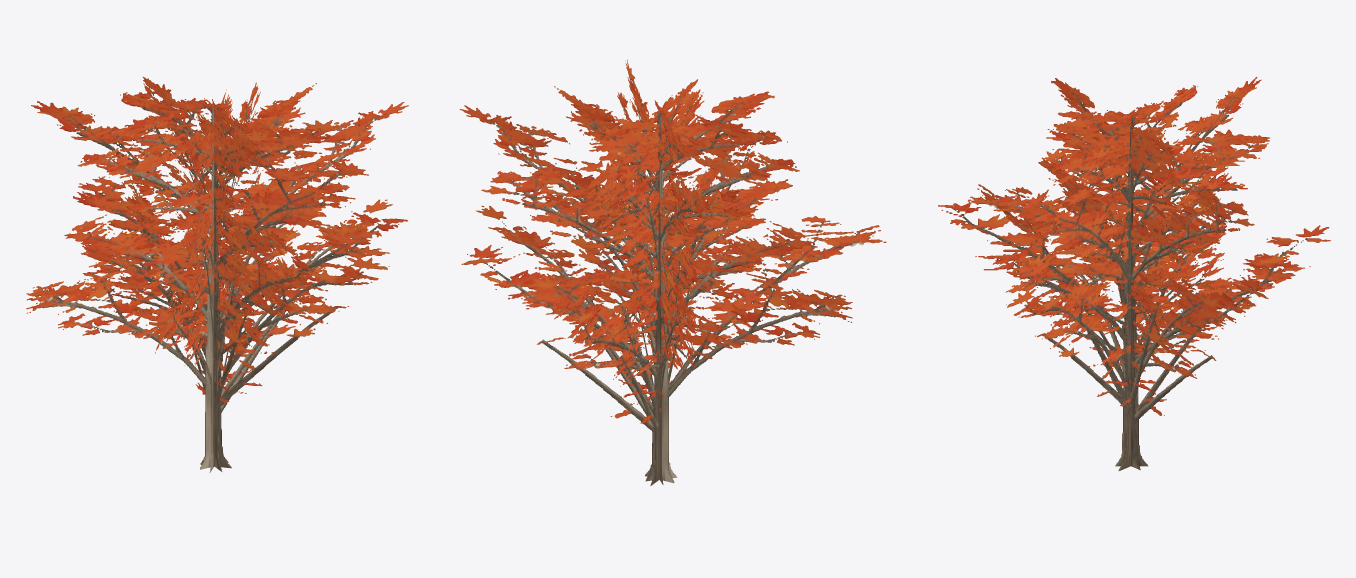
File: asset.glb
3 renders of one model, left to right at view 1: azimuth 30°, elevation 25°; view 2: azimuth 150°, elevation 25°; view 3: azimuth 270°, elevation 25°, orthographic. The views are drawn at different scales.
Parts seen in each view (by area): view 1: BackgroundTree; view 2: BackgroundTree; view 3: BackgroundTree.
Boxes of the visible parts, <box> form: BackgroundTree: <box>26,77,408,472</box>; BackgroundTree: <box>459,59,886,485</box>; BackgroundTree: <box>938,77,1330,470</box>.
Bounding box in the file's own units: 2.43 × 2.1 × 2.22.
1 material, 1 textured.
